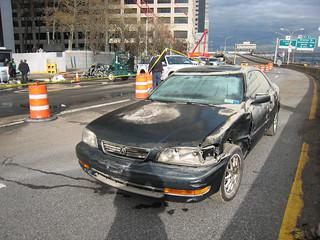bonnet-dent: (117, 96, 202, 148)
